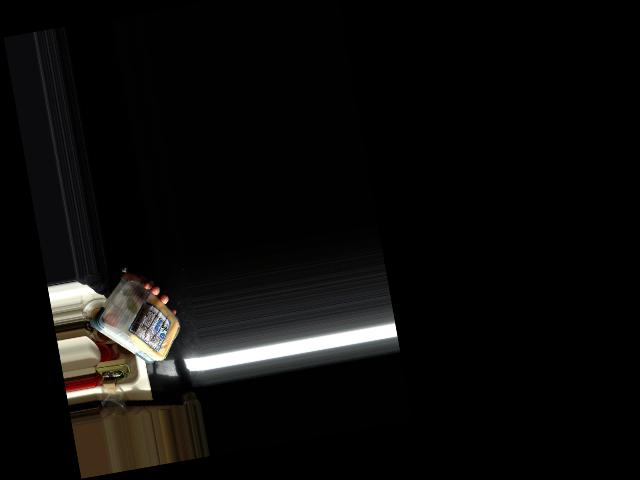cheese: (96, 272, 180, 370)
